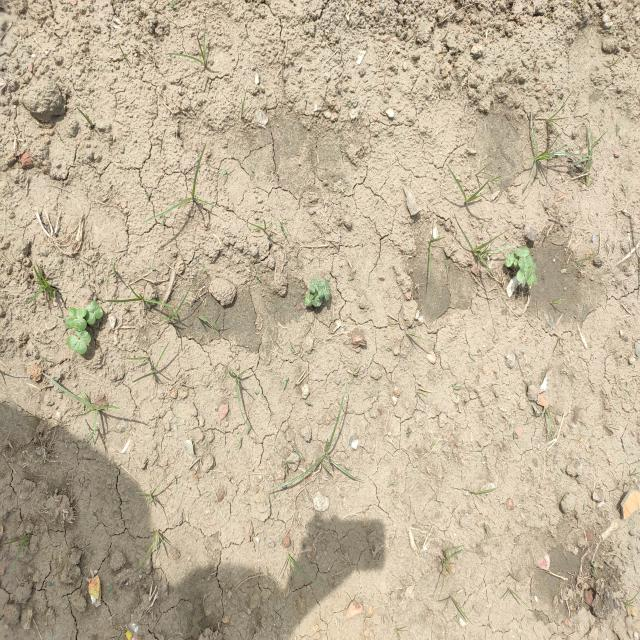seedling: (67, 335, 87, 355), (66, 317, 87, 331), (90, 301, 103, 319), (85, 304, 96, 325), (76, 329, 91, 344), (68, 307, 87, 318), (518, 255, 533, 268), (516, 264, 527, 281), (504, 253, 516, 267), (312, 291, 323, 306), (324, 278, 331, 300), (522, 268, 530, 287), (515, 247, 530, 257), (309, 278, 318, 293), (531, 263, 537, 285), (317, 281, 324, 298), (513, 257, 520, 269), (305, 293, 310, 306), (309, 294, 314, 307), (527, 276, 533, 286)
